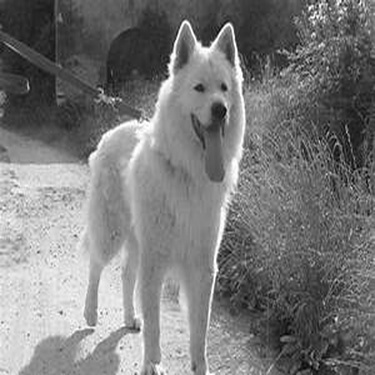dog: (65, 8, 254, 373)
